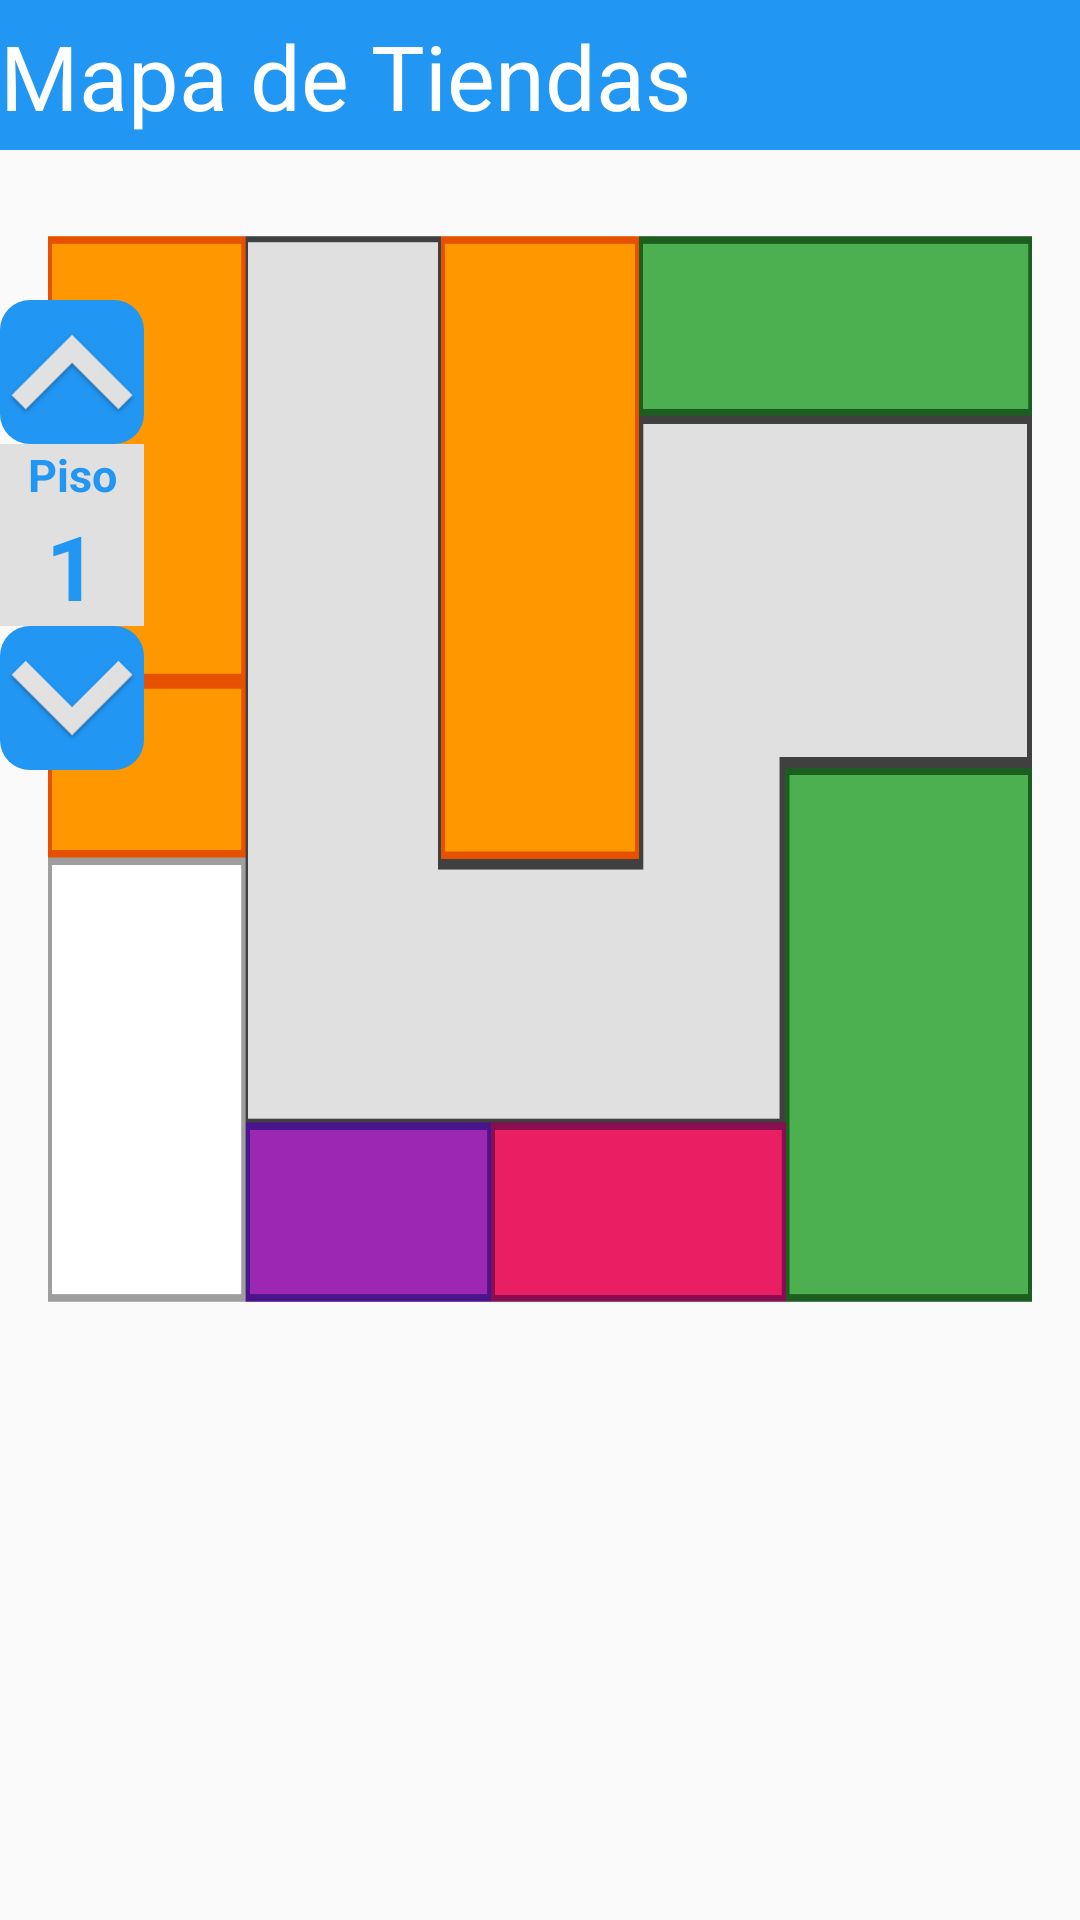

Icon click points for this 1080x1920 phone screenshot, format (x=x, y=y):
down: (x=72, y=698)
